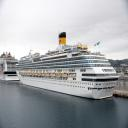cruises: (16, 33, 121, 104)
